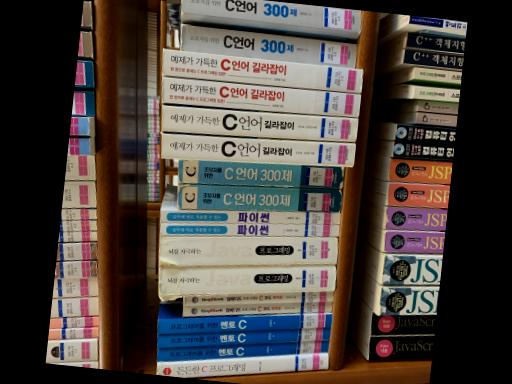book-spine: (162, 48, 362, 92), (162, 75, 360, 117), (180, 22, 356, 67), (162, 103, 357, 141), (161, 131, 355, 165), (181, 0, 361, 33), (159, 264, 335, 294), (160, 236, 336, 264), (179, 159, 343, 187), (156, 352, 329, 377), (177, 184, 341, 210), (157, 311, 331, 333), (157, 339, 328, 361), (157, 326, 330, 347), (160, 208, 338, 223), (160, 223, 339, 236), (183, 290, 333, 305), (182, 301, 332, 315)
